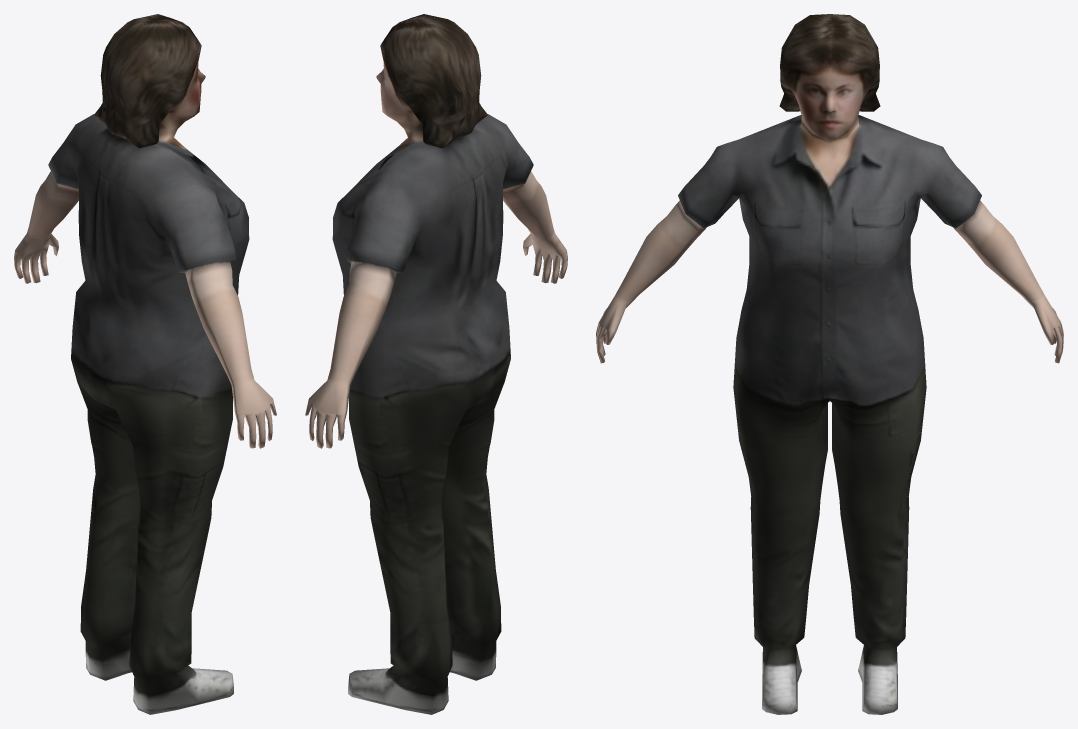
File: Character_49_Female.fbx
3 renders of one model, left to right at view 1: azimuth 30°, elevation 25°; view 2: azimuth 150°, elevation 25°; view 3: azimuth 270°, elevation 25°, orthographic.
Visible parts, largest first — view 1: Character_49_Female; view 2: Character_49_Female; view 3: Character_49_Female.
Boxes of the visible parts, x1,y1,x2,y2 form: Character_49_Female: [14, 14, 276, 714]; Character_49_Female: [305, 14, 567, 714]; Character_49_Female: [596, 14, 1063, 714].
Bounding box in the file's own units: 0.3743 × 1.72 × 1.09.
